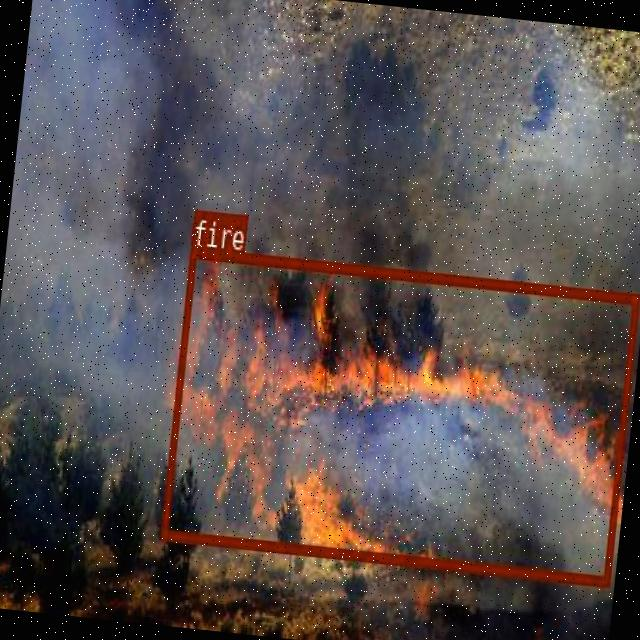fire: (159, 245, 638, 584)
